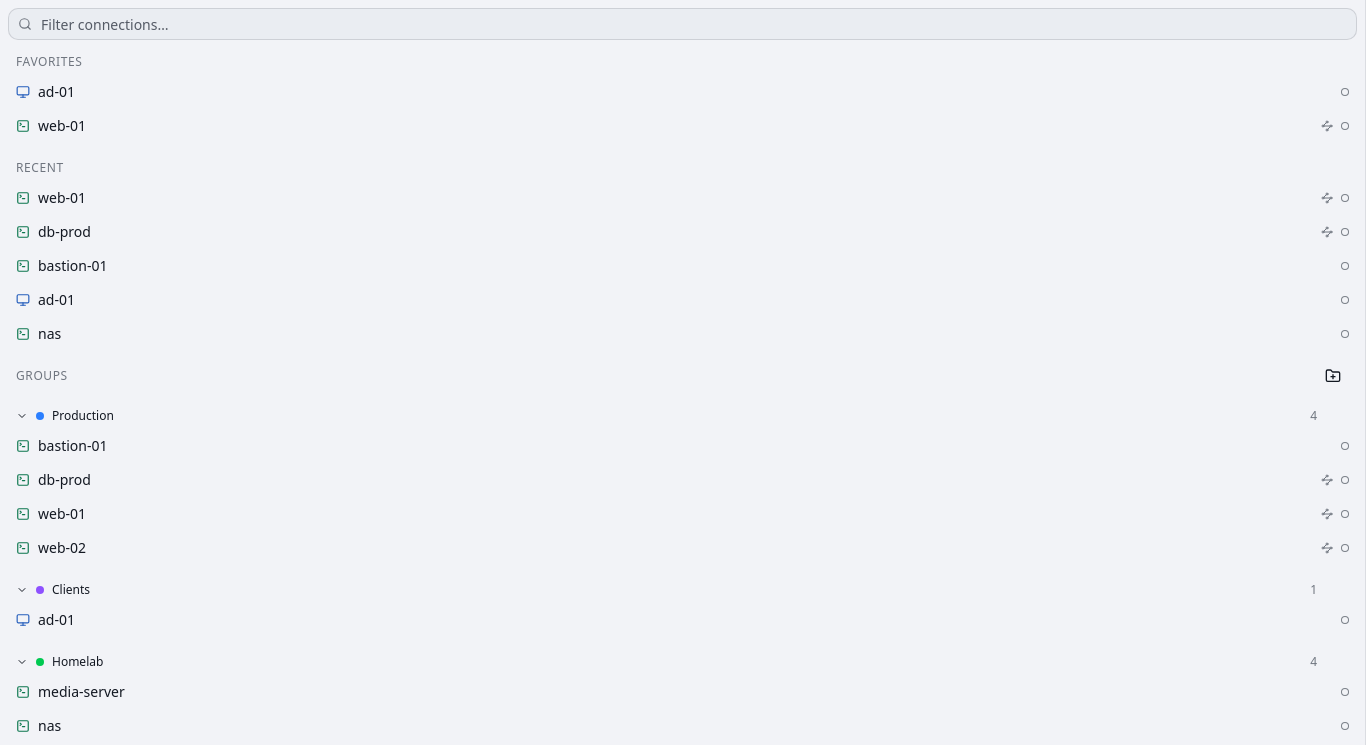
Test: Sidebar › filters to a flat result list
This screenshot has width=1366, height=745.
Step 1. Type "pg" into the field → (682, 24), box [8, 8, 1357, 40]
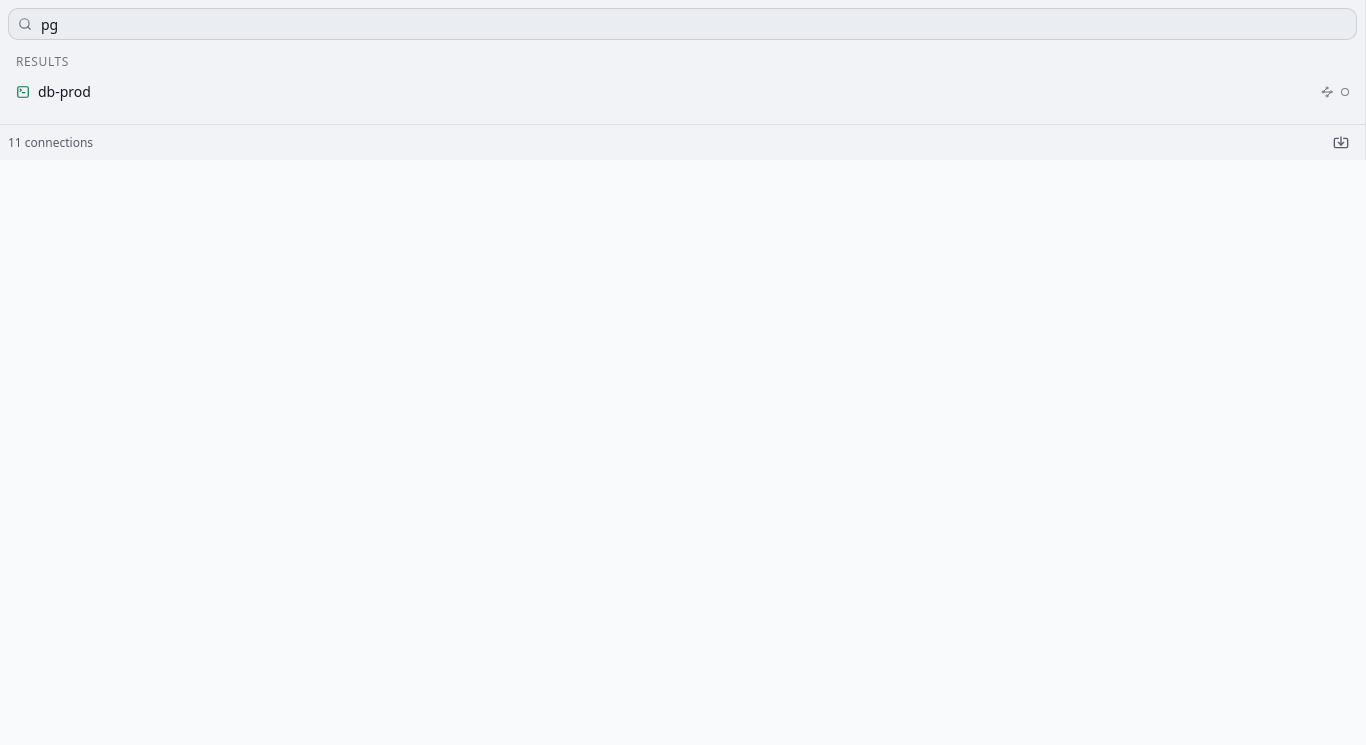
Expected: the heading "Results" is shown, [16, 54, 69, 70]
Expected: the number of buttons "db-prod" is 1, [8, 76, 1357, 108]
Expected: the button "web-01" is gone
